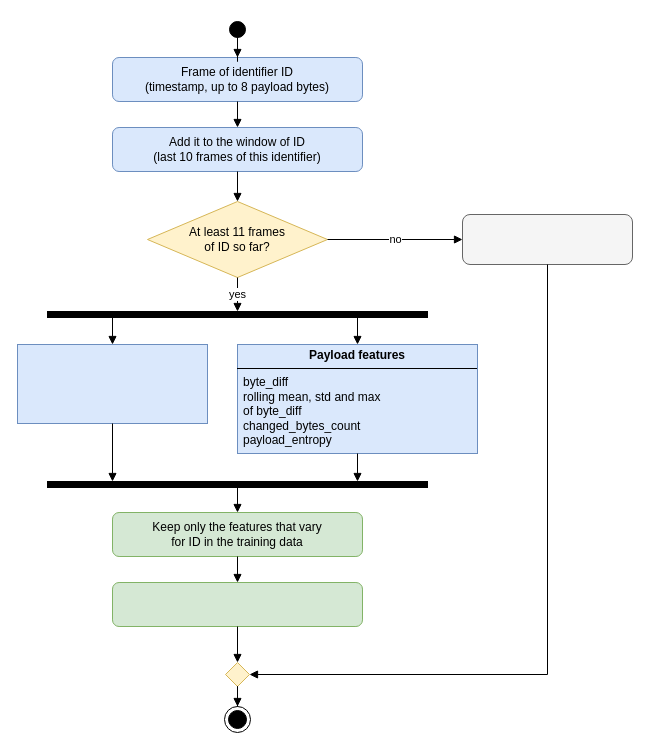
This 650x750 diagram has some shape labels left out. The shapes that lost their labels are listed below. From the top down, each one's box as (x1, y1, x2, y2) in pixels, then its label:
(462, 214, 632, 264): Warmup: no features, the frame is not scored
(16, 344, 208, 424): Timing features time_diff rolling mean of time_diff rolling std of time_diff
(112, 582, 362, 626): Vector of up to 9 values for the model of ID
